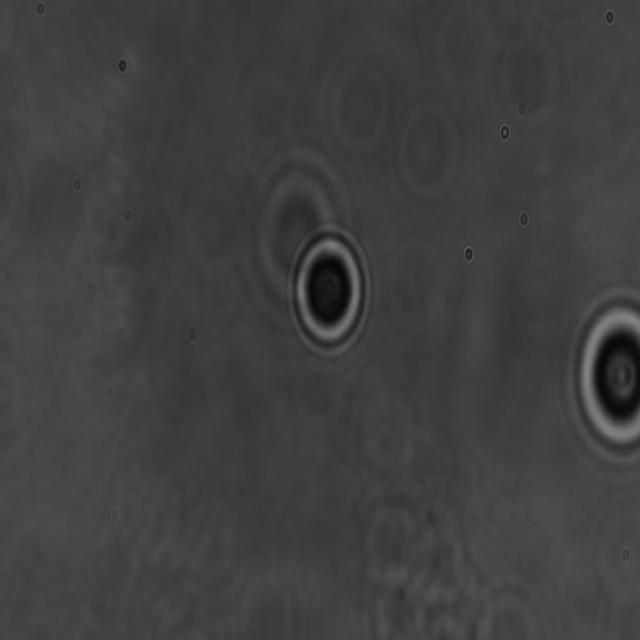DCELL: (284, 217, 375, 367)
